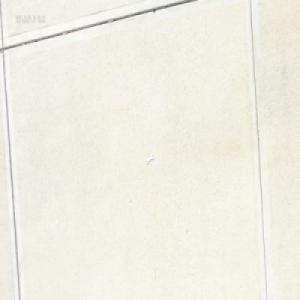Wrench: (145, 155, 153, 165)
